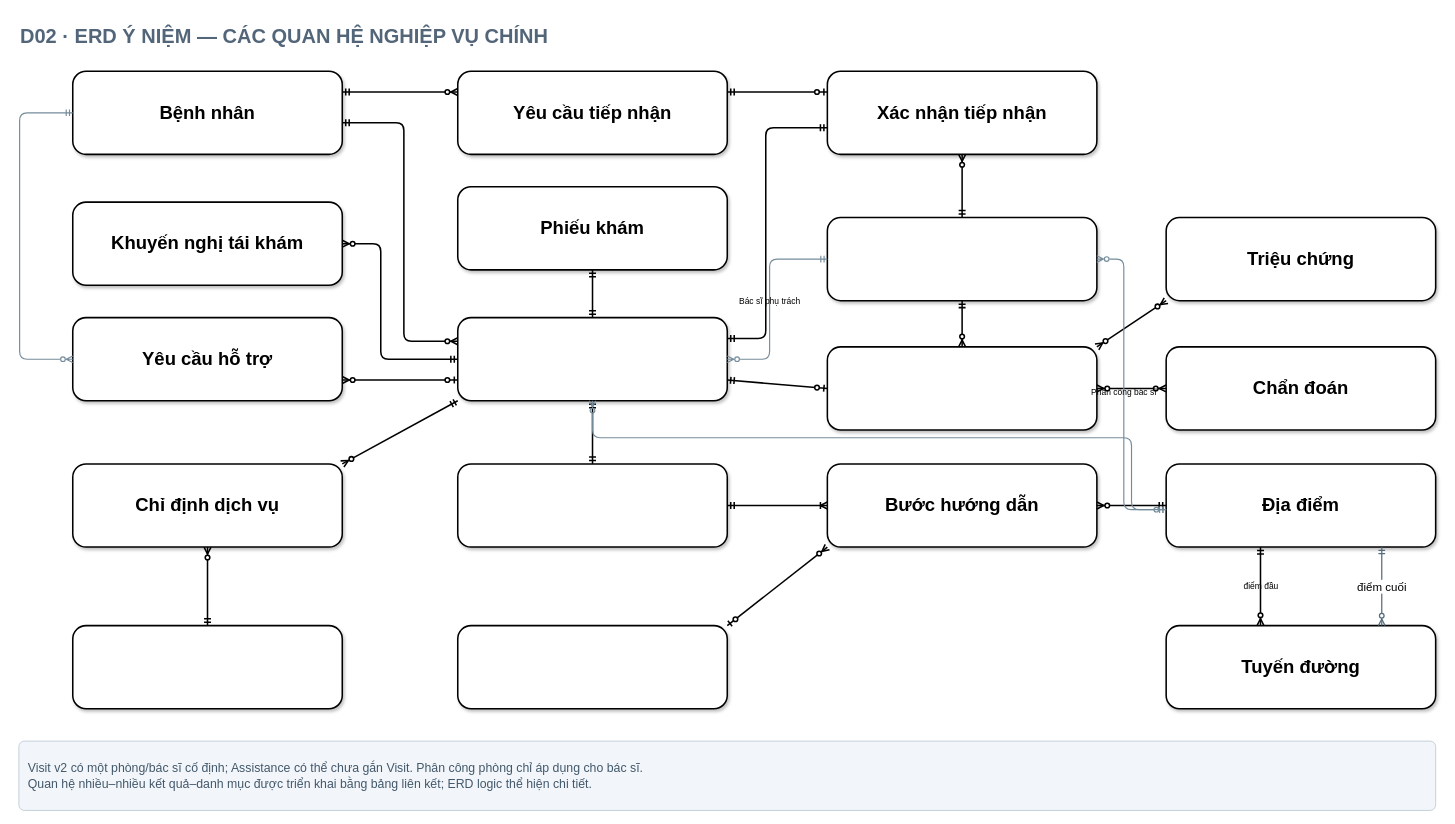
Image size: 1455x824. Some labels were removed from this diagram. The shapes that lost their labels are listed below. From the top down, each one's centre as x and y in pixels, then its label:
[962,259]: Nhân viên bệnh viện
[593,360]: Lượt khám (Visit)
[962,389]: Kết quả khám
[593,506]: Hành trình (Journey)
[208,668]: Dịch vụ bệnh viện
[593,668]: Nội dung thuyết minh
